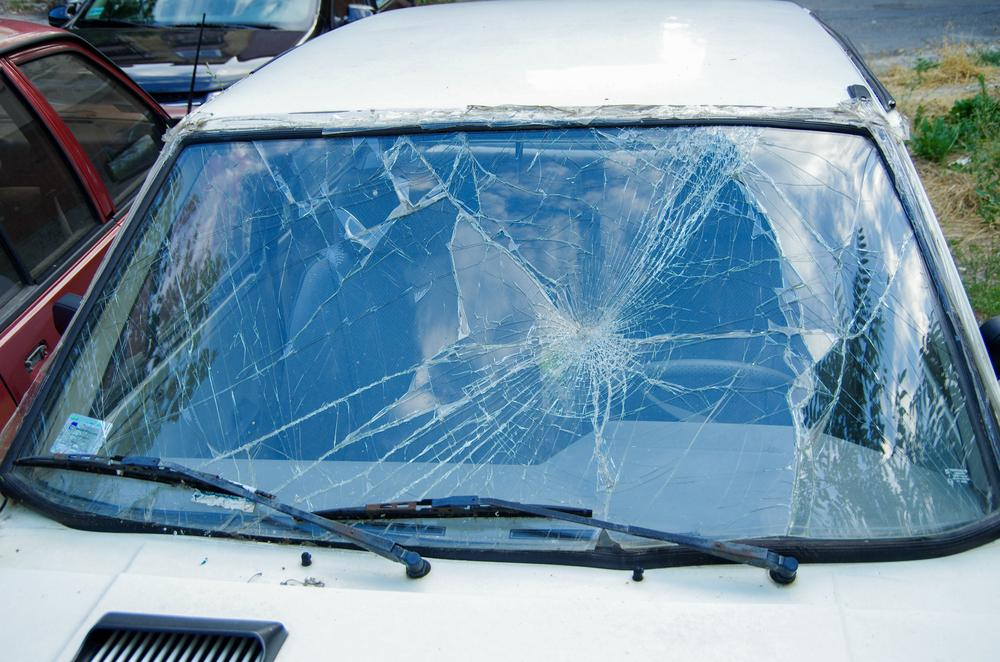glass shatter: (20, 124, 1000, 549)
